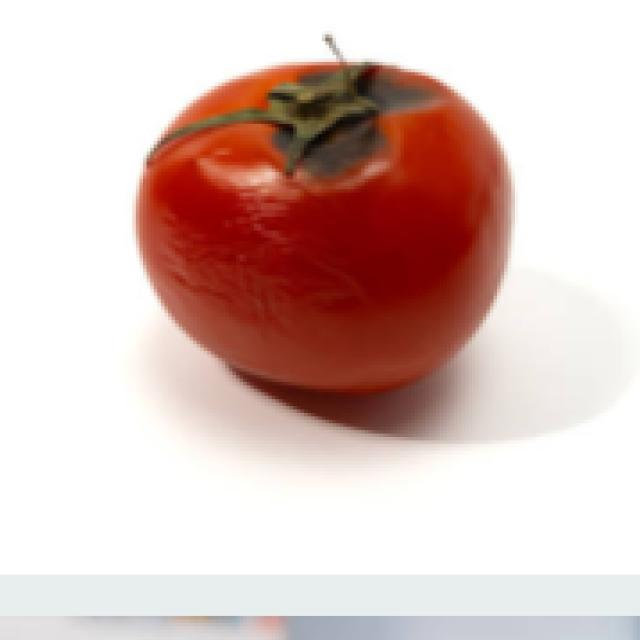Tomato: (141, 53, 520, 404)
